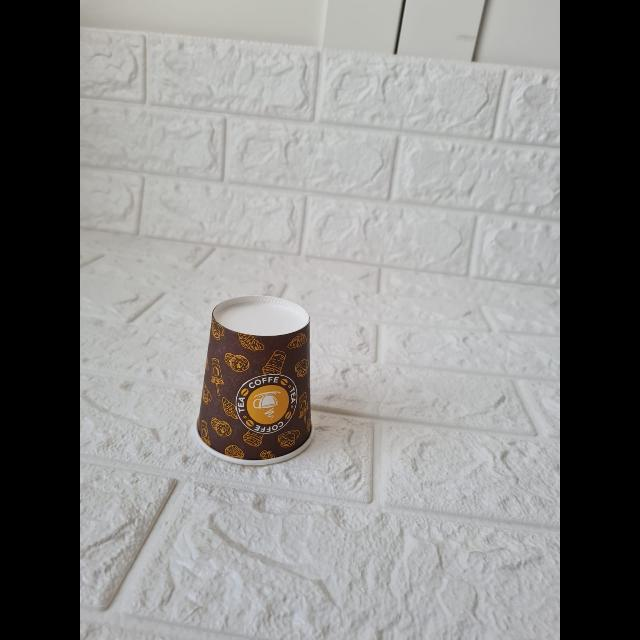trash: (192, 296, 318, 462)
